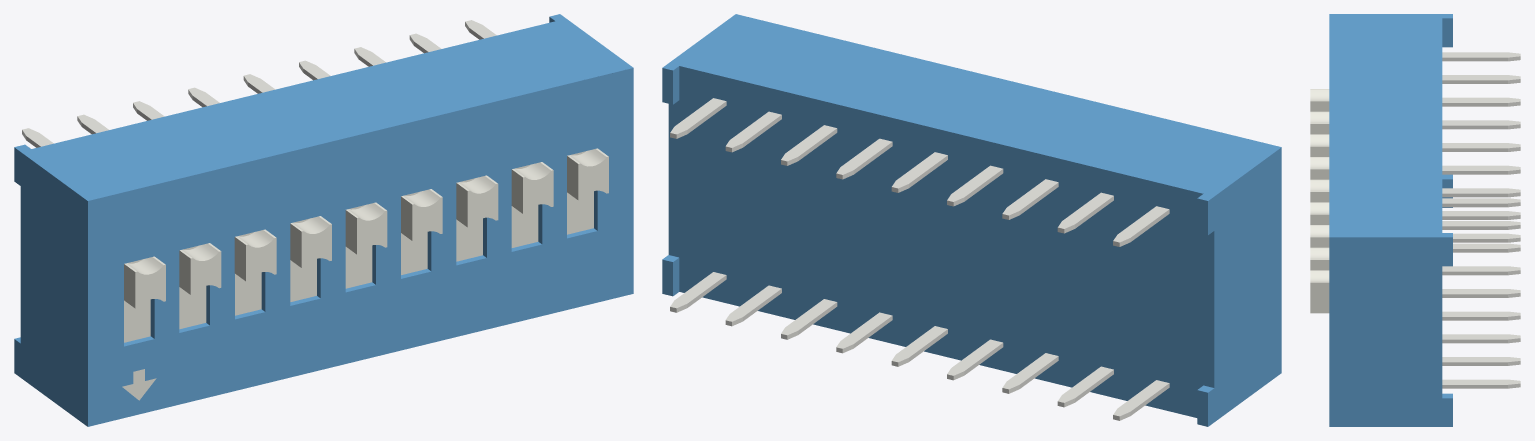
File: SW_DIP_SPSTx09_Slide_9.78x25.04mm_W7.62mm_P2.54mm.glb
3 renders of one model, left to right at view 1: azimuth 30°, elevation 25°; view 2: azimuth 150°, elevation 25°; view 3: azimuth 270°, elevation 25°, orthographic. The views are drawn at different scales.
Visible parts, largest first — view 1: Shape_IndexedFaceSet.087, Shape_IndexedFaceSet.008, Shape_IndexedFaceSet.011, Shape_IndexedFaceSet.235, Shape_IndexedFaceSet.253, Shape_IndexedFaceSet.262, Shape_IndexedFaceSet.249, Shape_IndexedFaceSet.259, Shape_IndexedFaceSet.227, Shape_IndexedFaceSet.244, Shape_IndexedFaceSet.229, Shape_IndexedFaceSet.247 (+9 smaller); view 2: Shape_IndexedFaceSet.003, Shape_IndexedFaceSet.008, Shape_IndexedFaceSet.011, Shape_IndexedFaceSet.072, Shape_IndexedFaceSet.027, Shape_IndexedFaceSet.014, Shape_IndexedFaceSet.037, Shape_IndexedFaceSet.042, Shape_IndexedFaceSet.052, Shape_IndexedFaceSet.057, Shape_IndexedFaceSet.061, Shape_IndexedFaceSet.085 (+9 smaller); view 3: Shape_IndexedFaceSet.008, Shape_IndexedFaceSet.005, Shape_IndexedFaceSet.183, Shape_IndexedFaceSet.025, Shape_IndexedFaceSet.042, Shape_IndexedFaceSet.048, Shape_IndexedFaceSet.085, Shape_IndexedFaceSet.052, Shape_IndexedFaceSet.065, Shape_IndexedFaceSet.076, Shape_IndexedFaceSet.079, Shape_IndexedFaceSet.018 (+45 smaller).
Part boxes in pixels (<box>): Shape_IndexedFaceSet.087: <box>88,68,633,426</box>; Shape_IndexedFaceSet.008: <box>14,14,633,200</box>; Shape_IndexedFaceSet.011: <box>14,147,87,426</box>; Shape_IndexedFaceSet.235: <box>345,245,372,288</box>; Shape_IndexedFaceSet.253: <box>511,205,538,247</box>; Shape_IndexedFaceSet.262: <box>179,286,206,329</box>; Shape_IndexedFaceSet.249: <box>467,183,498,227</box>; Shape_IndexedFaceSet.259: <box>190,251,221,294</box>; Shape_IndexedFaceSet.227: <box>235,272,261,315</box>; Shape_IndexedFaceSet.244: <box>567,191,593,234</box>; Shape_IndexedFaceSet.229: <box>401,232,427,274</box>; Shape_IndexedFaceSet.247: <box>456,218,482,261</box>; Shape_IndexedFaceSet.003: <box>668,66,1214,417</box>; Shape_IndexedFaceSet.008: <box>662,14,1281,200</box>; Shape_IndexedFaceSet.011: <box>1208,147,1281,426</box>; Shape_IndexedFaceSet.072: <box>726,285,781,321</box>; Shape_IndexedFaceSet.027: <box>836,138,892,174</box>; Shape_IndexedFaceSet.014: <box>670,98,725,134</box>; Shape_IndexedFaceSet.037: <box>1002,179,1058,215</box>; Shape_IndexedFaceSet.042: <box>947,165,1002,201</box>; Shape_IndexedFaceSet.052: <box>836,312,892,348</box>; Shape_IndexedFaceSet.057: <box>892,326,947,362</box>; Shape_IndexedFaceSet.061: <box>1058,366,1113,402</box>; Shape_IndexedFaceSet.085: <box>1113,206,1168,242</box>; Shape_IndexedFaceSet.008: <box>1329,14,1452,237</box>; Shape_IndexedFaceSet.005: <box>1329,237,1452,426</box>; Shape_IndexedFaceSet.183: <box>1310,282,1329,313</box>; Shape_IndexedFaceSet.025: <box>1442,188,1520,193</box>; Shape_IndexedFaceSet.042: <box>1442,120,1520,125</box>; Shape_IndexedFaceSet.048: <box>1442,334,1520,339</box>; Shape_IndexedFaceSet.085: <box>1442,52,1520,57</box>; Shape_IndexedFaceSet.052: <box>1442,311,1520,316</box>; Shape_IndexedFaceSet.065: <box>1442,266,1520,271</box>; Shape_IndexedFaceSet.076: <box>1442,379,1520,384</box>; Shape_IndexedFaceSet.079: <box>1442,198,1520,203</box>; Shape_IndexedFaceSet.018: <box>1442,211,1520,216</box>.
Size of the model in its own units: 9.86 by 3.9 by 3.92.
